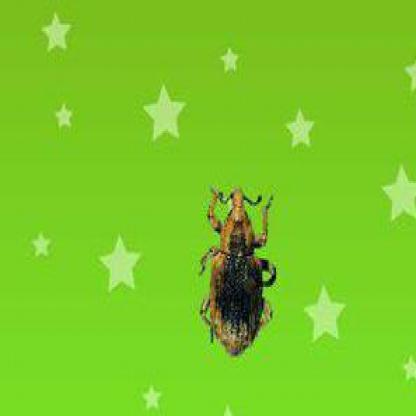rice-bug: (198, 188, 275, 357)
